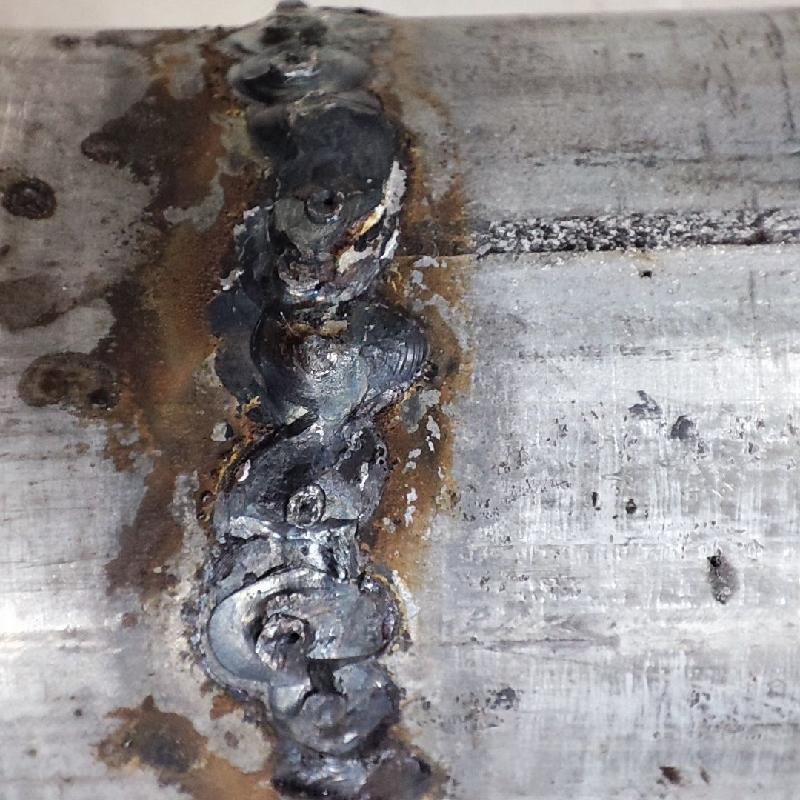Surface_pores: (250, 613, 318, 668), (278, 478, 332, 535), (316, 194, 349, 230)
wrong_size: (205, 5, 423, 799)
